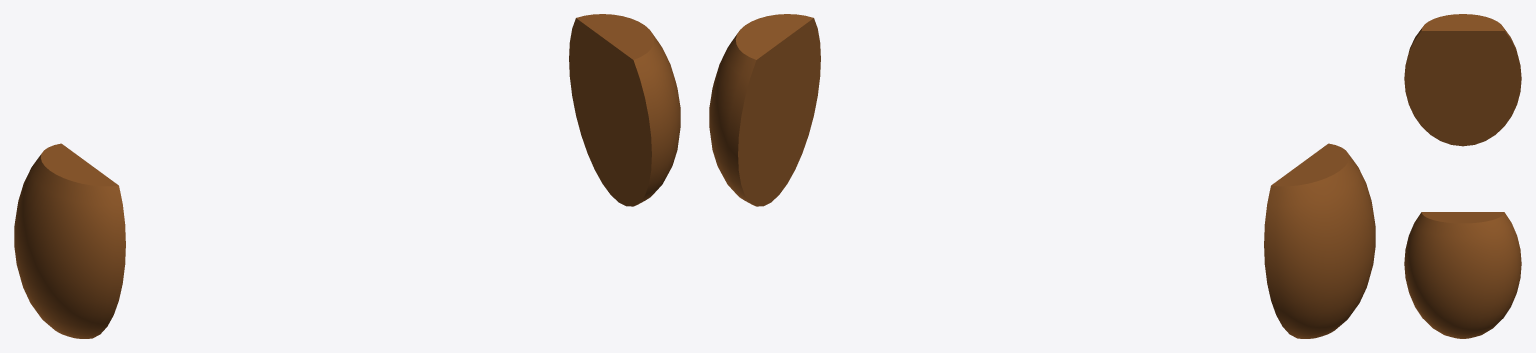
The model's file is Character_Hands.FBX.
3 views of the same model, side by side, from view 1: azimuth 30°, elevation 25°; view 2: azimuth 150°, elevation 25°; view 3: azimuth 270°, elevation 25° (orthographic). The views are drawn at different scales.
Parts seen in each view (by area): view 1: Character_Hands; view 2: Character_Hands; view 3: Character_Hands.
Boxes of the visible parts, <box> form: Character_Hands: <box>14,14,680,338</box>; Character_Hands: <box>709,14,1375,338</box>; Character_Hands: <box>1404,14,1521,338</box>.
Size of the model in its own units: 82.19 by 20.89 by 18.06.
